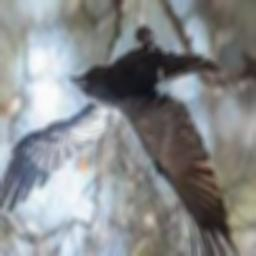Crow: (0, 26, 239, 256)
